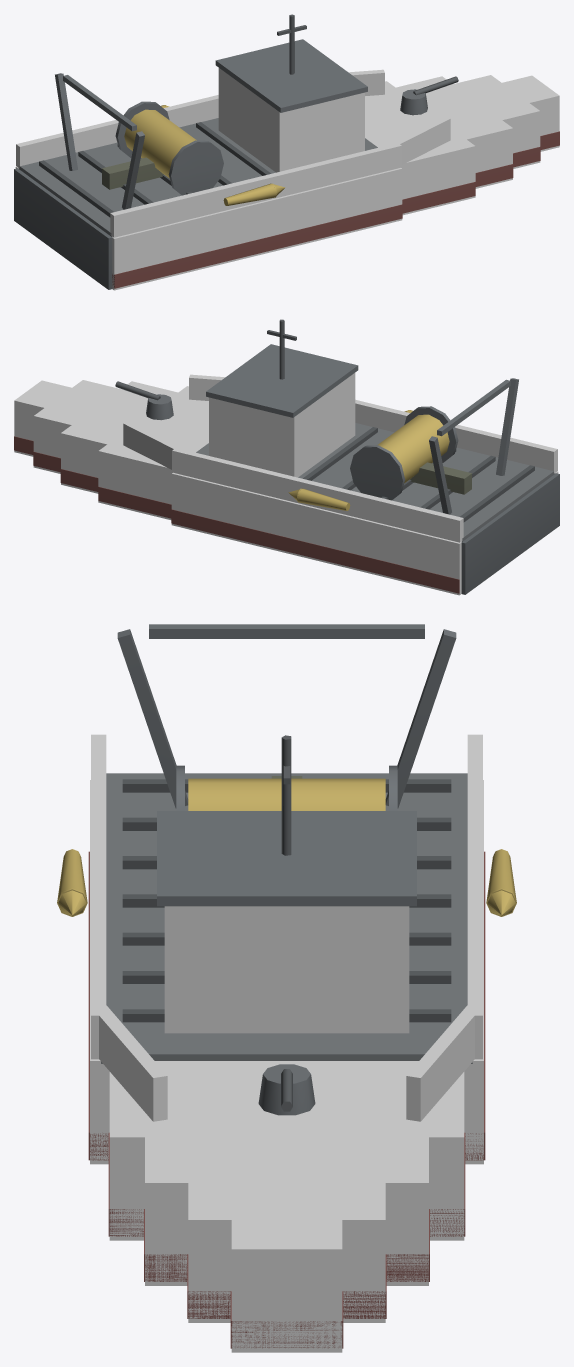
The model's file is m_sweep_79e4d931.glb.
The picture shows the model from 3 angles, top to bottom: view 1: azimuth 30°, elevation 25°; view 2: azimuth 150°, elevation 25°; view 3: azimuth 270°, elevation 25°; orthographic projection. The views are drawn at different scales.
Parts seen in each view (by area): view 1: mesh; view 2: mesh; view 3: mesh.
Boxes of the visible parts, left/top/right/bottom form: mesh: left=14, top=14, right=559, bottom=290; mesh: left=14, top=319, right=559, bottom=595; mesh: left=57, top=624, right=516, bottom=1352.
Bounding box in the file's own units: 51.1 × 18.5 × 21.
